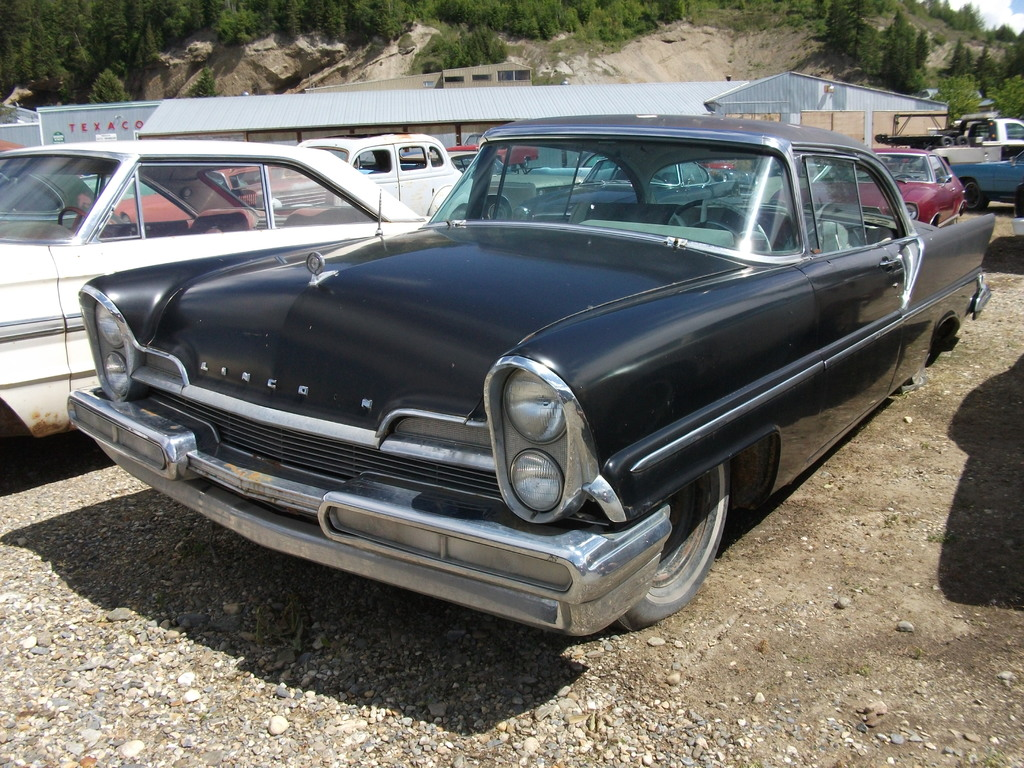mobil: (93, 118, 960, 660)
